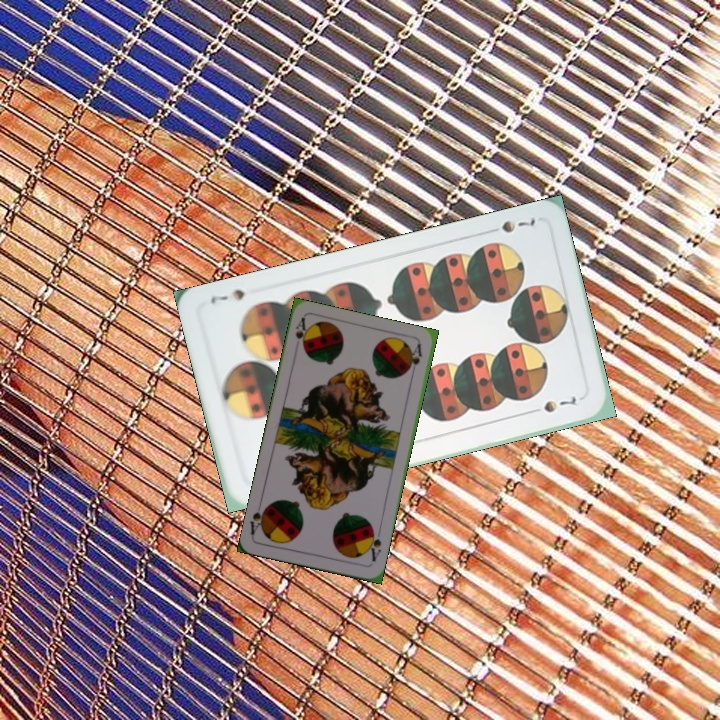S7: (482, 213, 538, 237)
SA: (364, 524, 384, 564), (291, 314, 311, 352)
